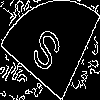S: (25, 25, 64, 82)
